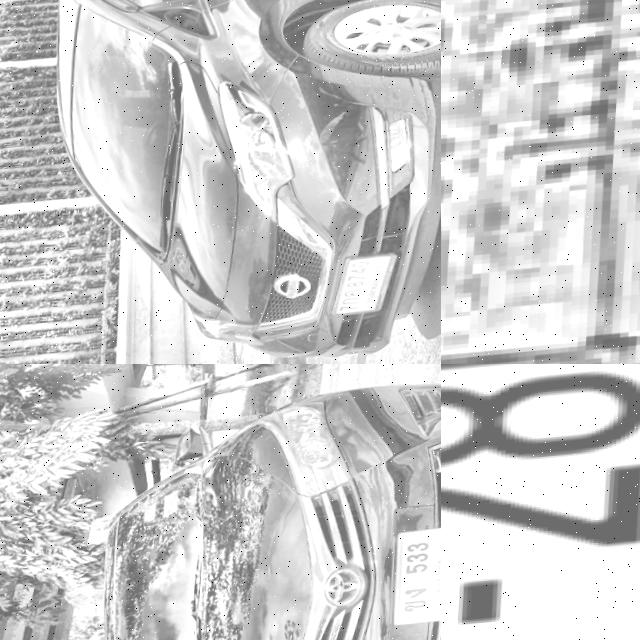license-plate: (441, 0, 640, 364), (441, 364, 640, 640), (389, 532, 441, 635), (336, 258, 408, 324)
